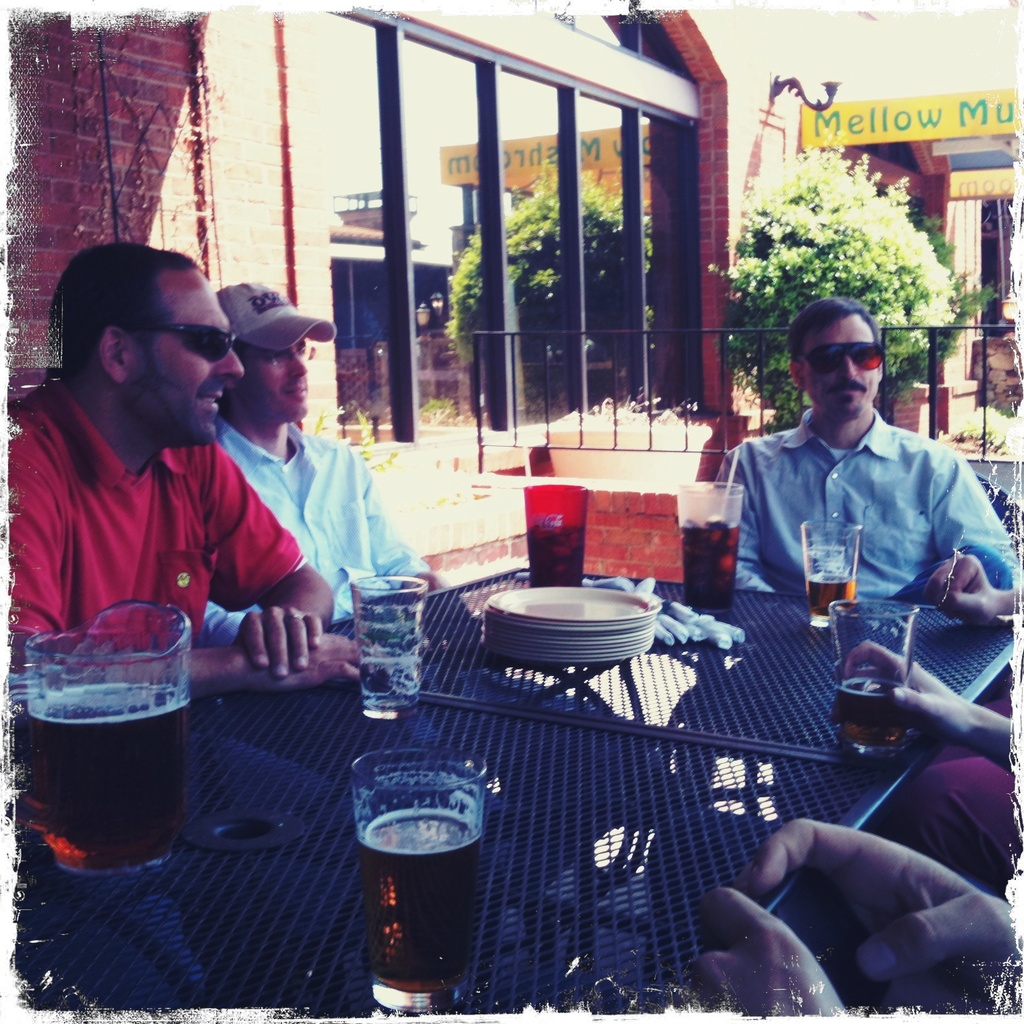Beer: (10, 684, 185, 883), (353, 801, 472, 1008), (805, 576, 854, 623)
